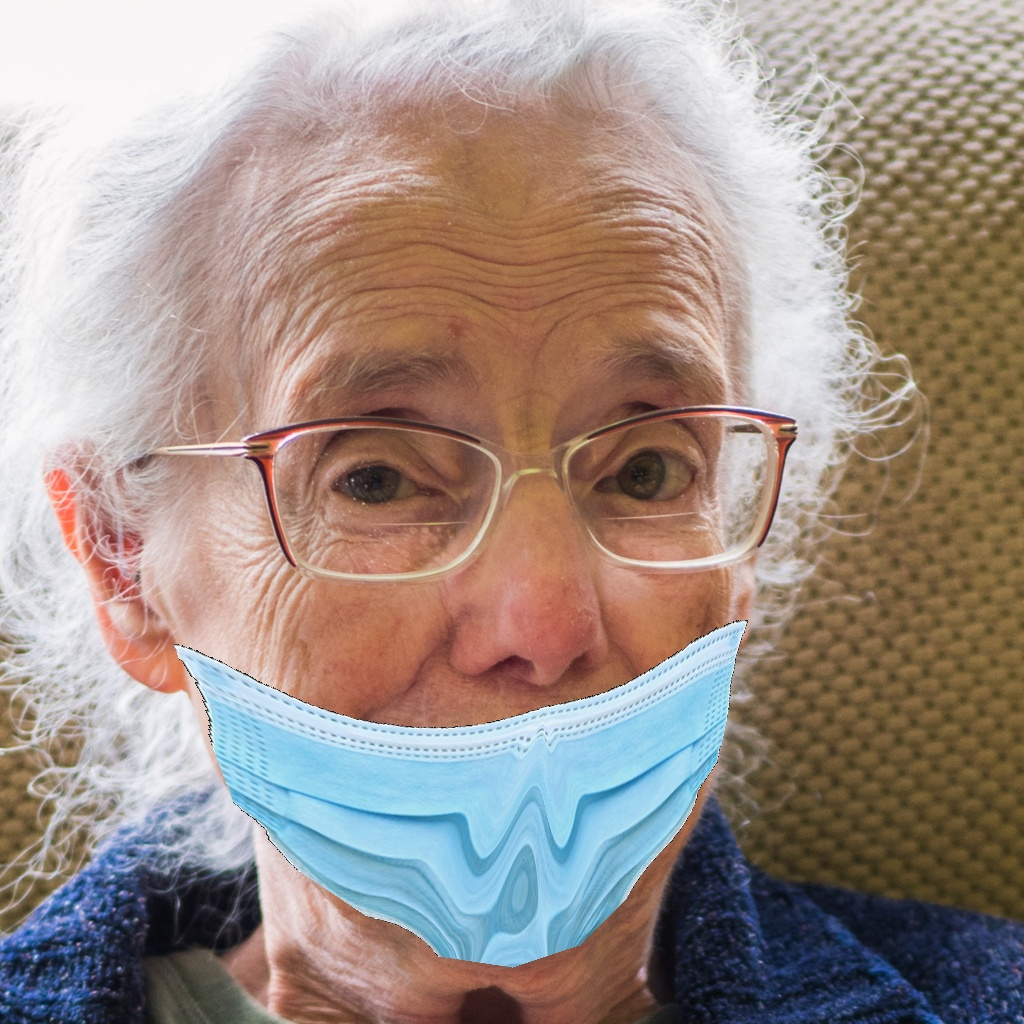mask_weared_incorrect: (121, 331, 808, 972)
